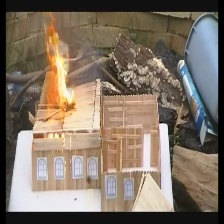fire: (43, 15, 75, 108)
